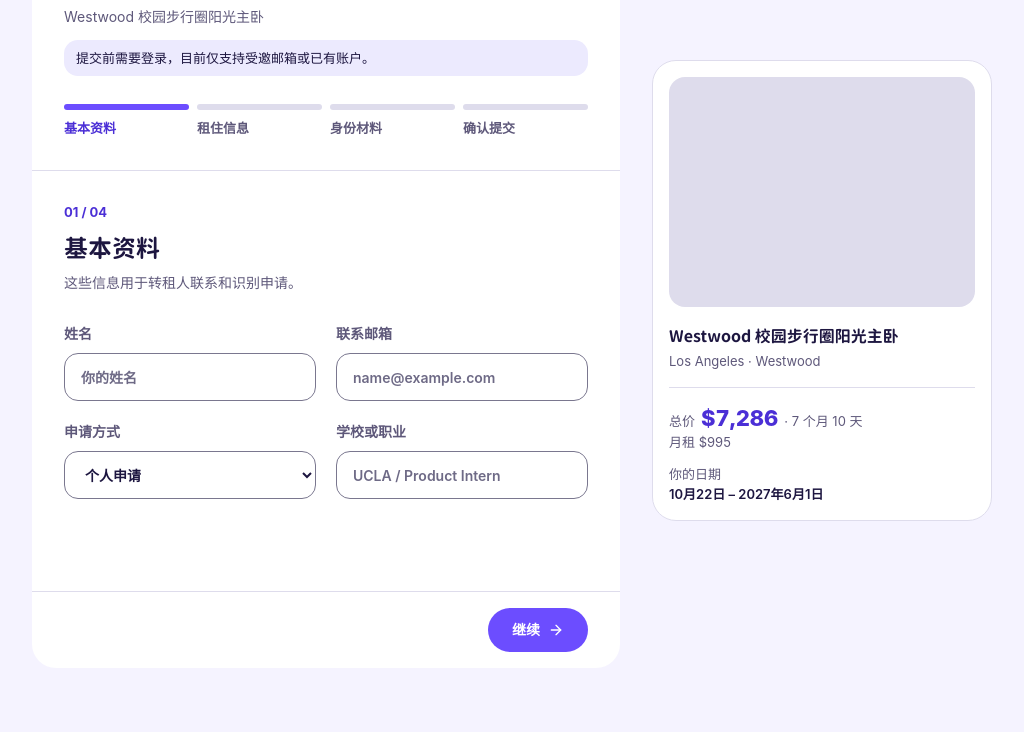
Test case: application › puts a field's error under that field and marks it invalid
(page scrolled)
Step 1. Click the button "继续" → (538, 630), box [488,608,588,652]
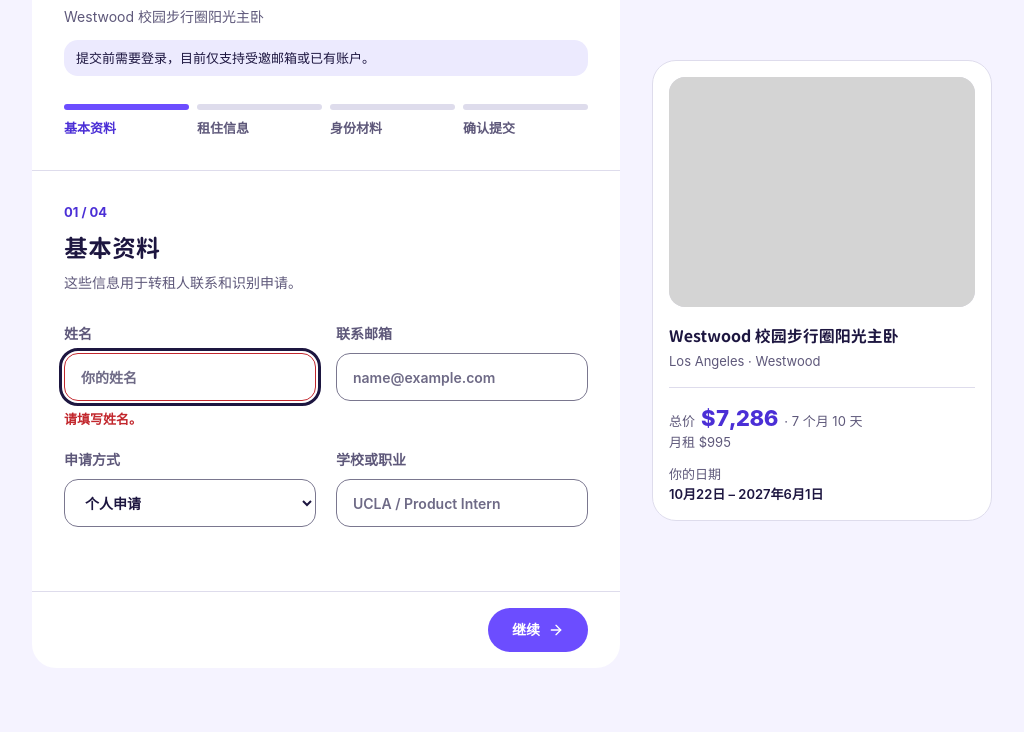
Now the message "请填写姓名。" is shown, box [64,411,142,427]
